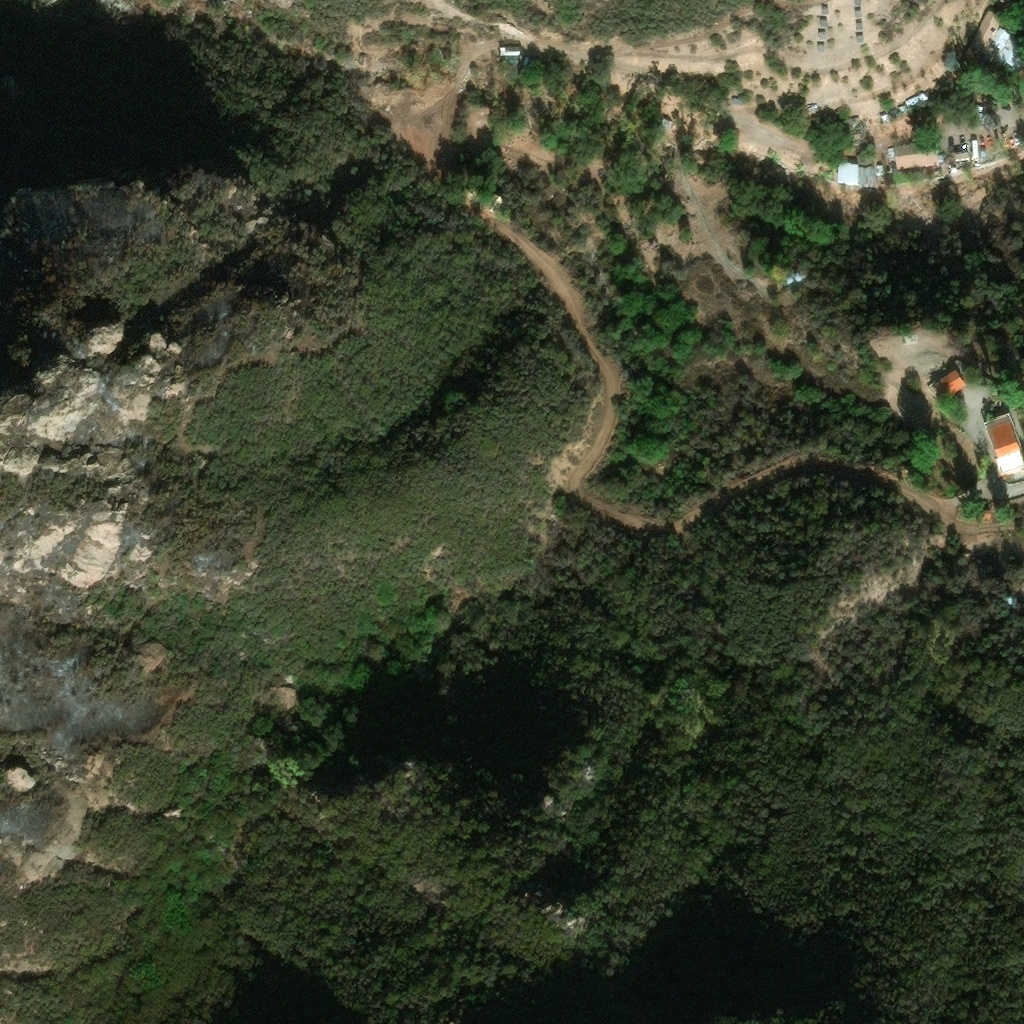0 no-damage: (982, 413, 1023, 476), (969, 9, 1012, 56), (932, 370, 966, 403), (837, 164, 877, 187), (782, 267, 808, 289), (903, 93, 931, 113), (486, 193, 505, 215), (839, 118, 862, 136), (950, 152, 970, 168), (656, 116, 671, 133), (498, 49, 522, 59), (975, 106, 986, 123), (897, 104, 907, 115), (879, 114, 888, 124), (731, 98, 740, 107), (886, 149, 894, 159)
